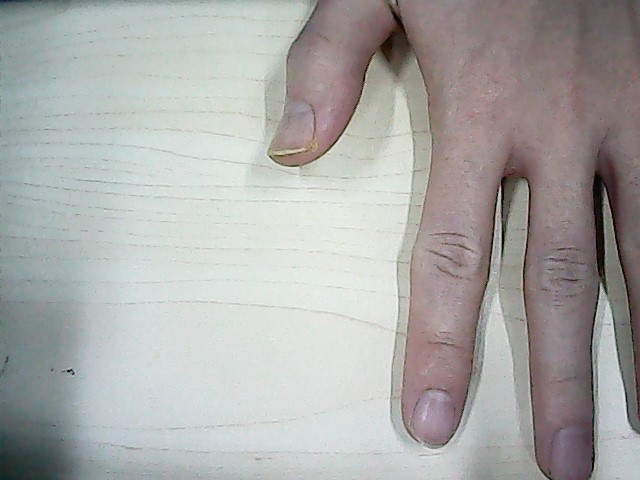nail: (266, 95, 317, 158), (544, 425, 593, 480), (412, 387, 455, 447)
